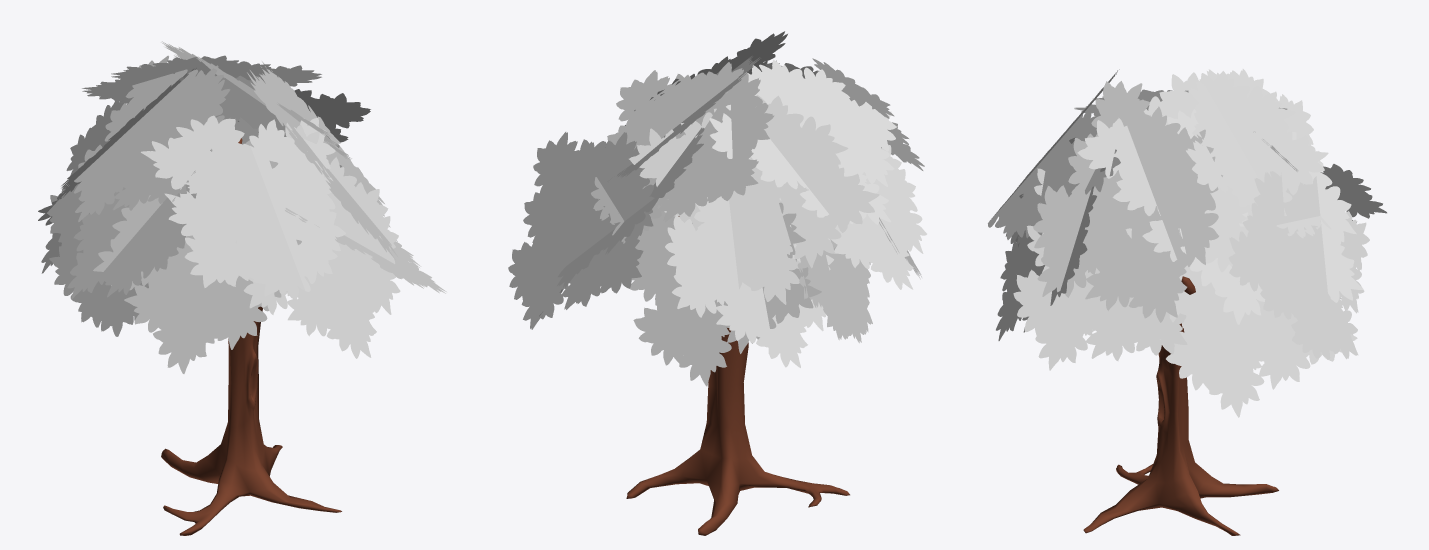
The model's file is tree1.fbx.
3 renders of one model, left to right at view 1: azimuth 30°, elevation 25°; view 2: azimuth 150°, elevation 25°; view 3: azimuth 270°, elevation 25°, orthographic. The views are drawn at different scales.
Parts seen in each view (by area): view 1: tree_log_lp.001; view 2: tree_log_lp.001; view 3: tree_log_lp.001.
Boxes of the visible parts, <box> form: tree_log_lp.001: <box>38,41,446,535</box>; tree_log_lp.001: <box>508,31,926,535</box>; tree_log_lp.001: <box>988,69,1386,535</box>.
Size of the model in its own units: 1708 by 2034 by 1774.
